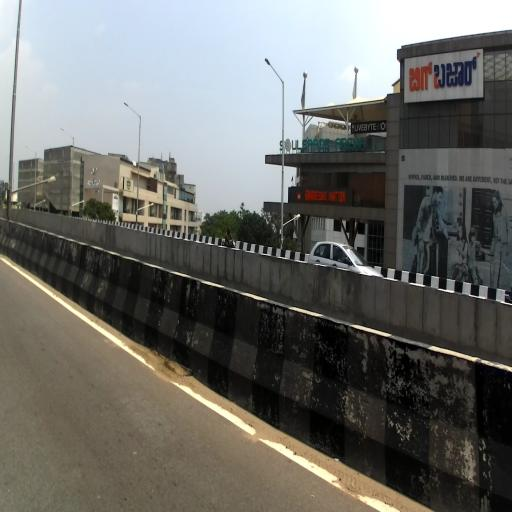street_light_0: (8, 175, 57, 197), (264, 58, 284, 87), (280, 213, 301, 232), (124, 101, 142, 121), (136, 201, 154, 215), (60, 126, 74, 139), (69, 199, 86, 209), (24, 144, 38, 156), (34, 198, 46, 209)
